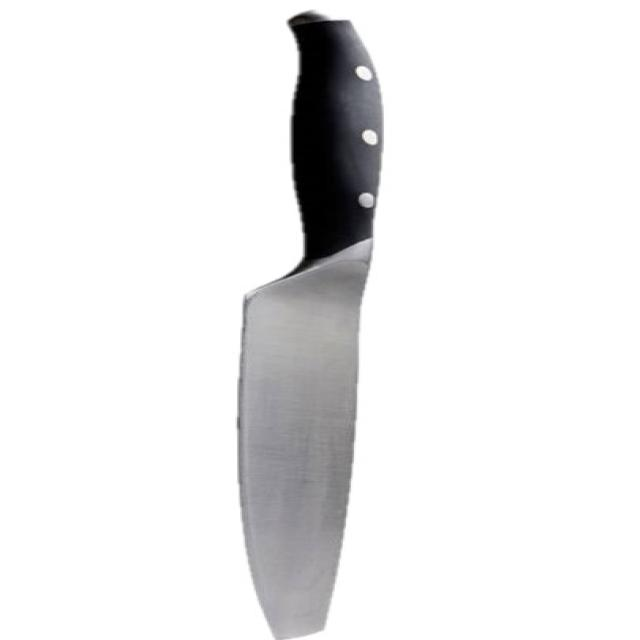knife: (191, 2, 389, 640)
